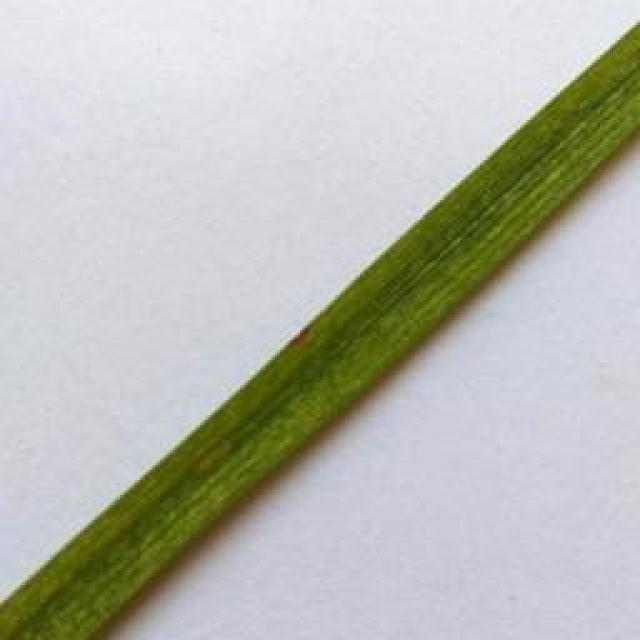Brown_Spot: (282, 314, 323, 340)
